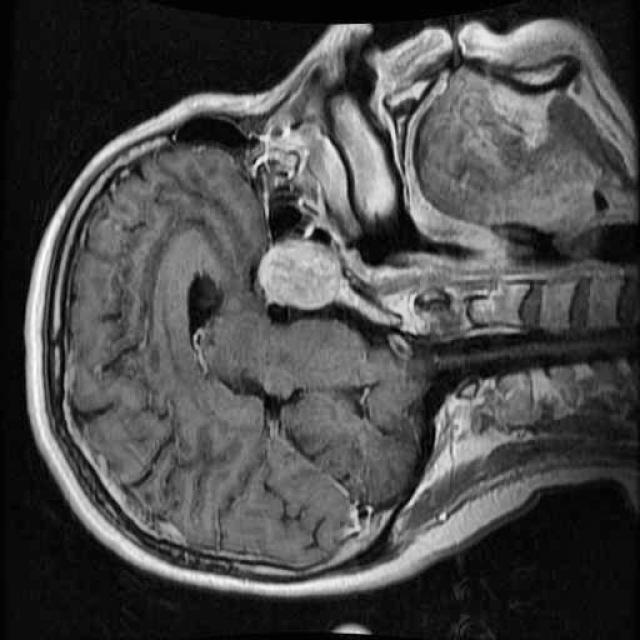Tumor: (248, 225, 348, 325)
